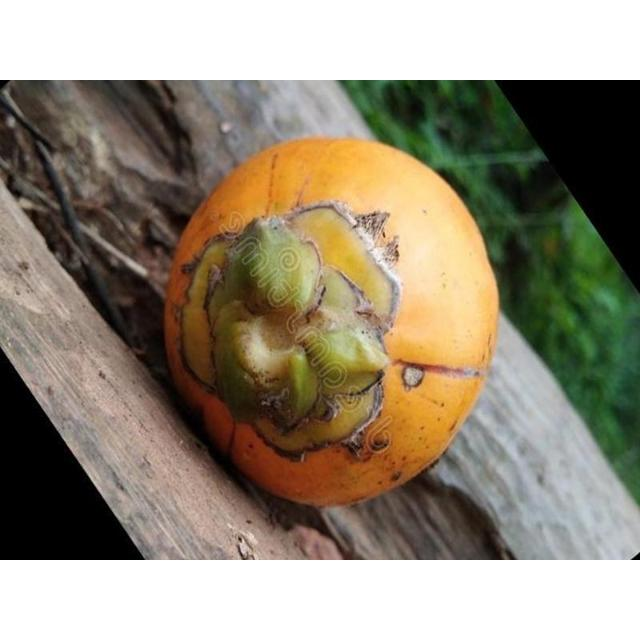good: (160, 138, 502, 512)
